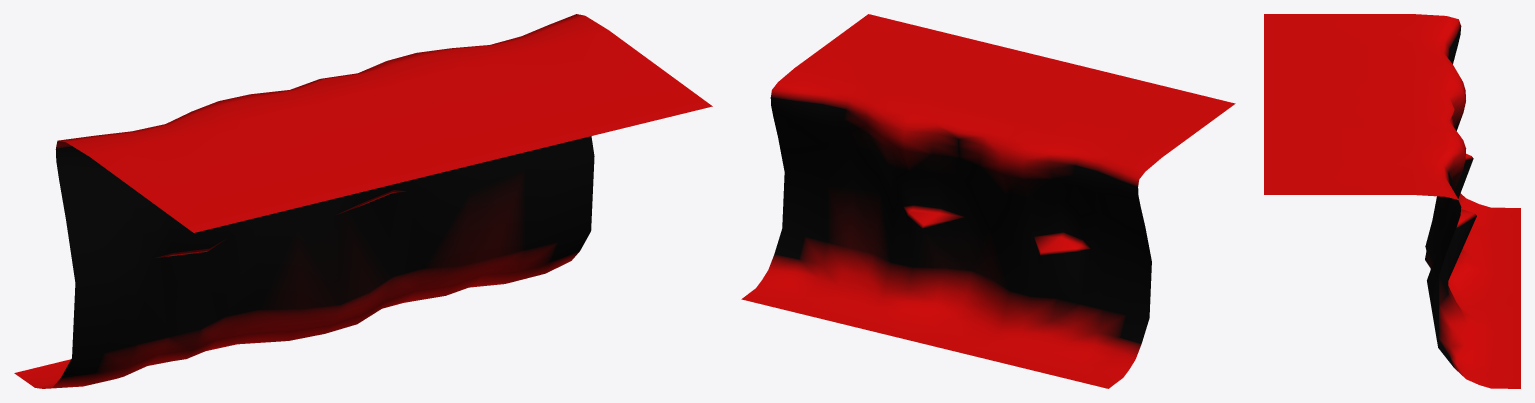
The model's file is GroundCliff01D 1M Background.fbx.
The picture shows the model from 3 angles, left to right: view 1: azimuth 30°, elevation 25°; view 2: azimuth 150°, elevation 25°; view 3: azimuth 270°, elevation 25°; orthographic projection. The views are drawn at different scales.
Parts seen in each view (by area): view 1: GroundCliff01D 1M Background; view 2: GroundCliff01D 1M Background; view 3: GroundCliff01D 1M Background.
Boxes of the visible parts, x1,y1,x2,y2 form: GroundCliff01D 1M Background: (14,14,712,388); GroundCliff01D 1M Background: (741,14,1235,388); GroundCliff01D 1M Background: (1264,14,1520,388).
Size of the model in its own units: 2 by 1 by 1.2.
